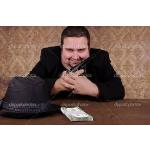Pistol: (66, 55, 92, 75)
